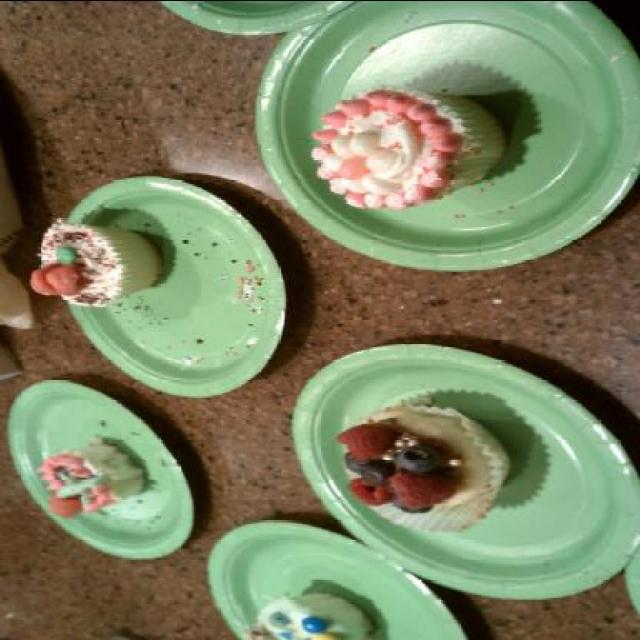Muffin: (308, 86, 514, 208), (338, 408, 512, 537), (39, 220, 148, 302), (36, 442, 147, 516), (251, 595, 374, 640)
